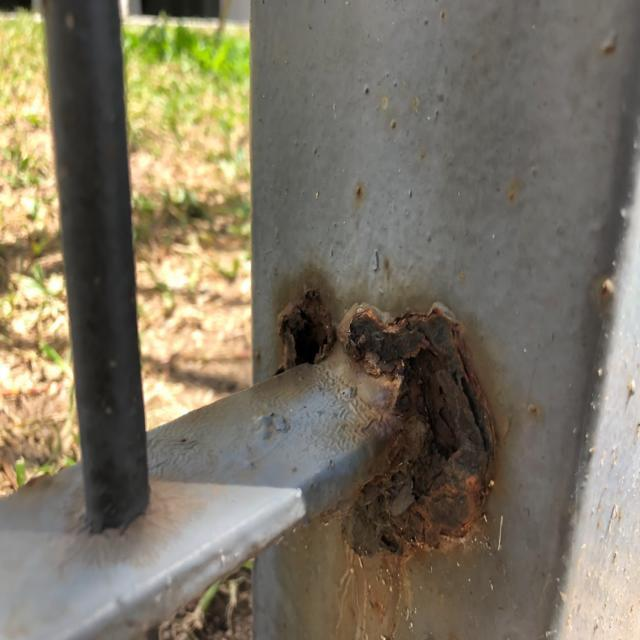Corrosion: (335, 298, 498, 557), (273, 287, 335, 374)
